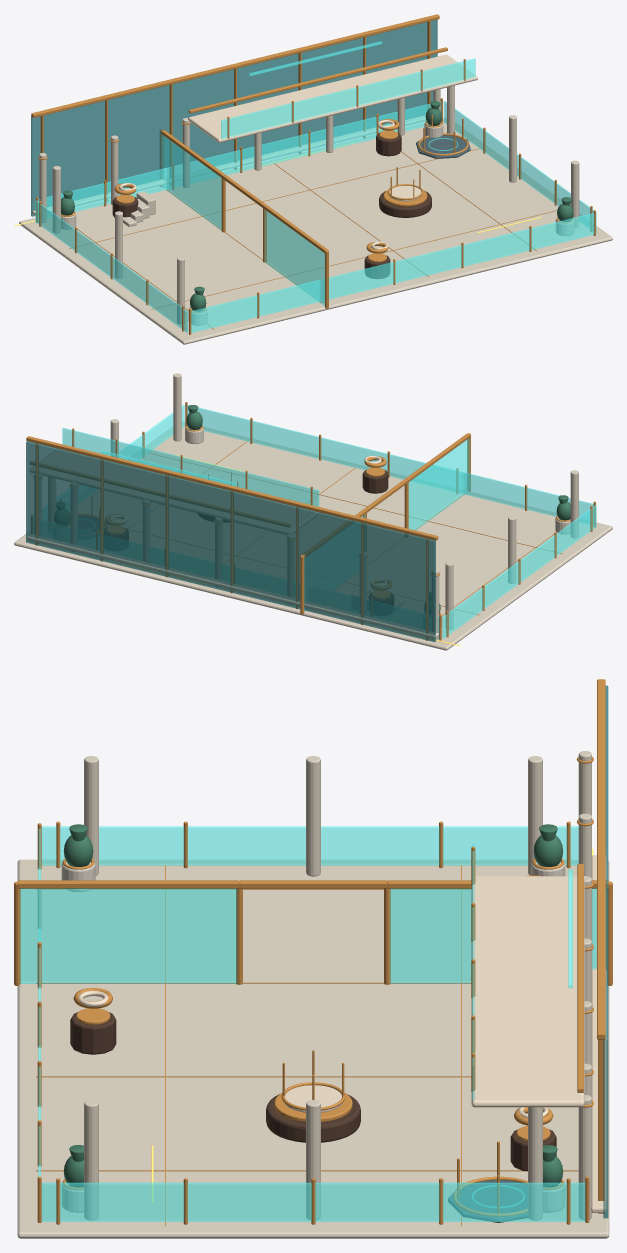
File: museum.glb
3 renders of one model, top to bottom at view 1: azimuth 30°, elevation 25°; view 2: azimuth 150°, elevation 25°; view 3: azimuth 270°, elevation 25°, orthographic. The views are drawn at different scales.
Parts seen in each view (by area): view 1: Floor, BackWindowWall, PerimeterRail_Front_Glass, UpperGalleryDeck, PerimeterRail_Back_Glass, UpperGalleryFrontGlass, PerimeterRail_Left_Glass, SecurityPartition_North_Glass, SecurityPartition_South_Glass, PerimeterRail_Right_Glass, BackWindowHeader, BackWindowSill (+14 smaller); view 2: BackWindowWall, Floor, PerimeterRail_Front_Glass, UpperGalleryDeck, UpperGalleryFrontGlass, PerimeterRail_Left_Glass, SecurityPartition_North_Glass, BackWindowSill, BackWindowHeader, PerimeterRail_Right_Glass, UpperGalleryBackTrim, SideColumn_1_6 (+15 smaller); view 3: Floor, UpperGalleryDeck, PerimeterRail_Right_Glass, SecurityPartition_North_Glass, PerimeterRail_Left_Glass, SecurityPartition_South_Glass, BackWindowHeader, BackWindowSill, BackWindowWall, ExtractionTerracePad, SecurityPartition_North_Header, CentralDisplayBase (+22 smaller).
Boxes of the visible parts, x1,y1,x2,y2 form: Floor: [19, 117, 612, 344]; BackWindowWall: [31, 19, 437, 216]; PerimeterRail_Front_Glass: [191, 213, 594, 332]; UpperGalleryDeck: [188, 54, 477, 142]; PerimeterRail_Back_Glass: [38, 102, 441, 220]; UpperGalleryFrontGlass: [221, 58, 475, 139]; PerimeterRail_Left_Glass: [35, 200, 188, 333]; SecurityPartition_North_Glass: [264, 210, 324, 306]; SecurityPartition_South_Glass: [161, 134, 221, 230]; PerimeterRail_Right_Glass: [443, 101, 596, 233]; BackWindowHeader: [31, 14, 439, 117]; BackWindowSill: [32, 115, 425, 215]; BackWindowWall: [26, 441, 435, 642]; Floor: [14, 421, 612, 650]; PerimeterRail_Front_Glass: [187, 405, 593, 525]; UpperGalleryDeck: [30, 449, 319, 534]; UpperGalleryFrontGlass: [62, 428, 319, 506]; PerimeterRail_Left_Glass: [442, 505, 596, 638]; SecurityPartition_North_Glass: [408, 438, 469, 530]; BackWindowSill: [27, 534, 438, 638]; BackWindowHeader: [26, 436, 438, 540]; PerimeterRail_Right_Glass: [119, 405, 184, 458]; UpperGalleryBackTrim: [30, 461, 290, 526]; SideColumn_1_6: [173, 373, 181, 441]; Floor: [17, 859, 609, 1238]; UpperGalleryDeck: [471, 876, 584, 1107]; PerimeterRail_Right_Glass: [41, 1182, 585, 1221]; SecurityPartition_North_Glass: [20, 888, 236, 983]; PerimeterRail_Left_Glass: [41, 826, 578, 865]; SecurityPartition_South_Glass: [390, 888, 606, 983]; BackWindowHeader: [597, 679, 605, 1039]; BackWindowSill: [591, 855, 606, 1212]; BackWindowWall: [603, 685, 608, 1218]; ExtractionTerracePad: [448, 1180, 528, 1222]; SecurityPartition_North_Header: [17, 880, 239, 888]; CentralDisplayBase: [266, 1094, 360, 1142].
Size of the model in its own units: 24.5 by 5.83 by 16.19.
